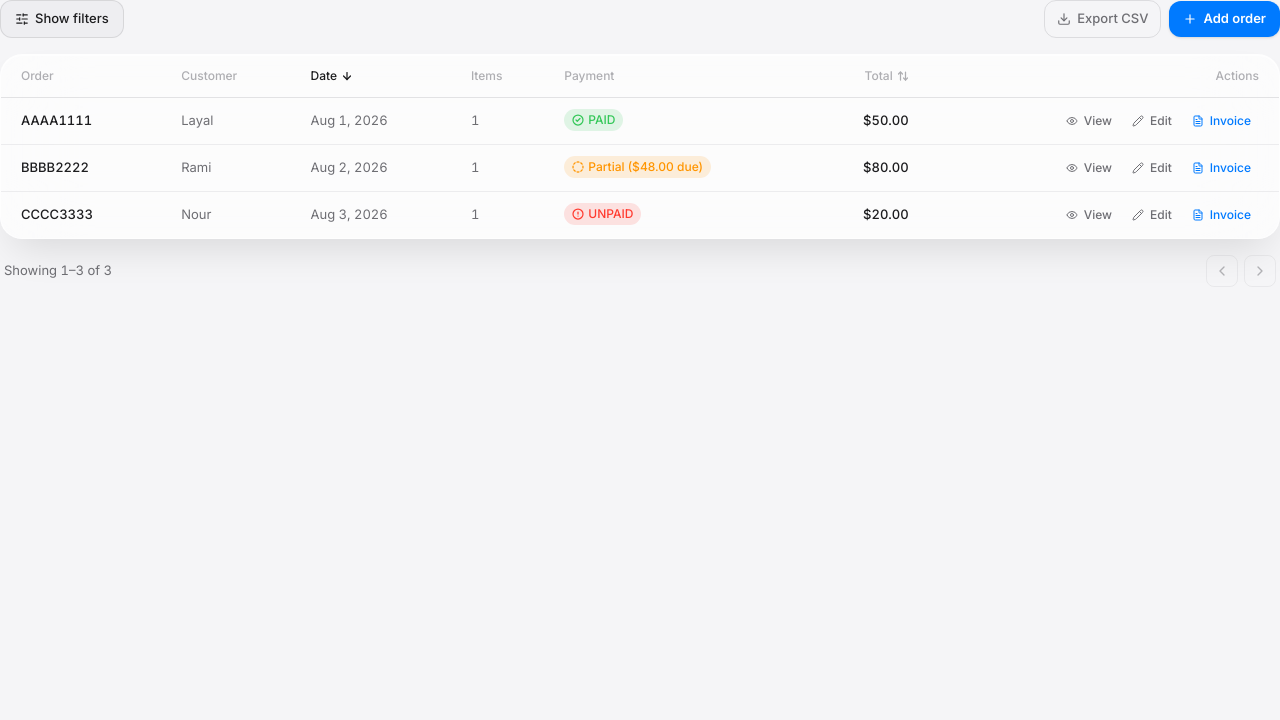
it: Orders › opens the filters on demand
Click the button "Show filters": [62, 19] box [0,0,124,38]
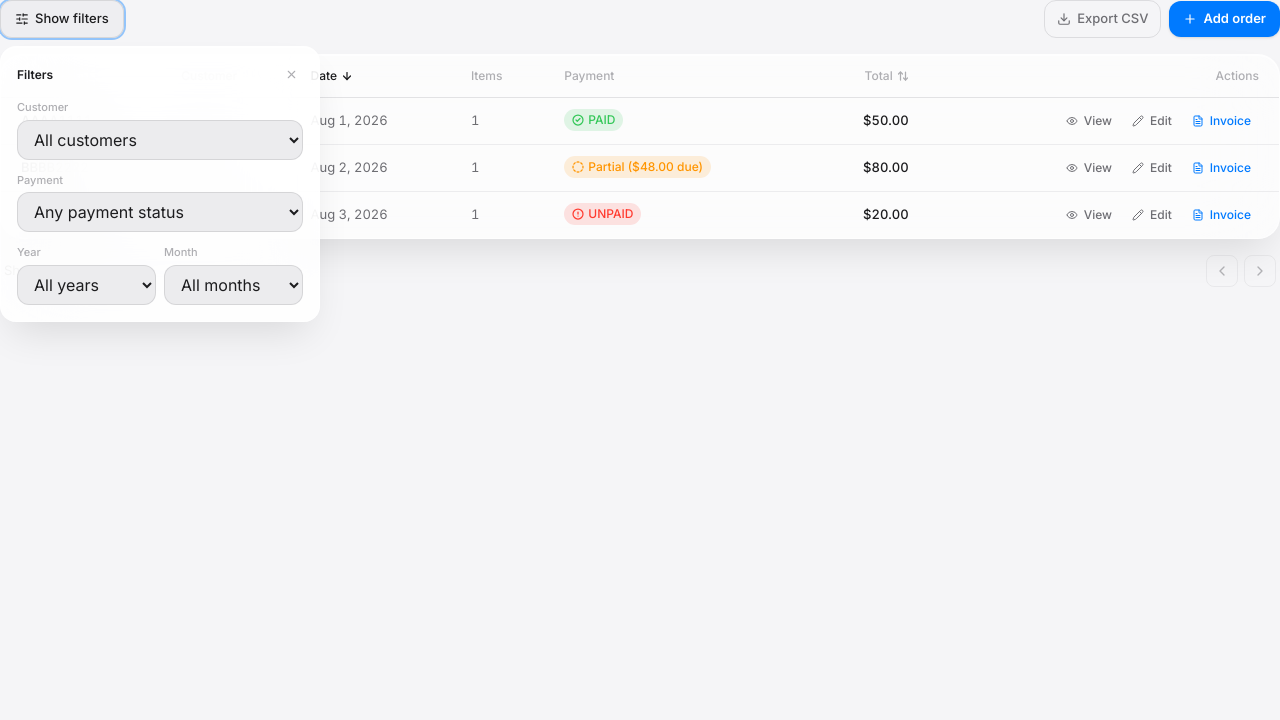
Now the dropdown labelled "Customer" is shown, box [17,119,303,159]
Now the dropdown labelled "Payment" is shown, box [17,192,303,232]
Now the dropdown labelled "Year" is shown, box [17,264,156,304]
